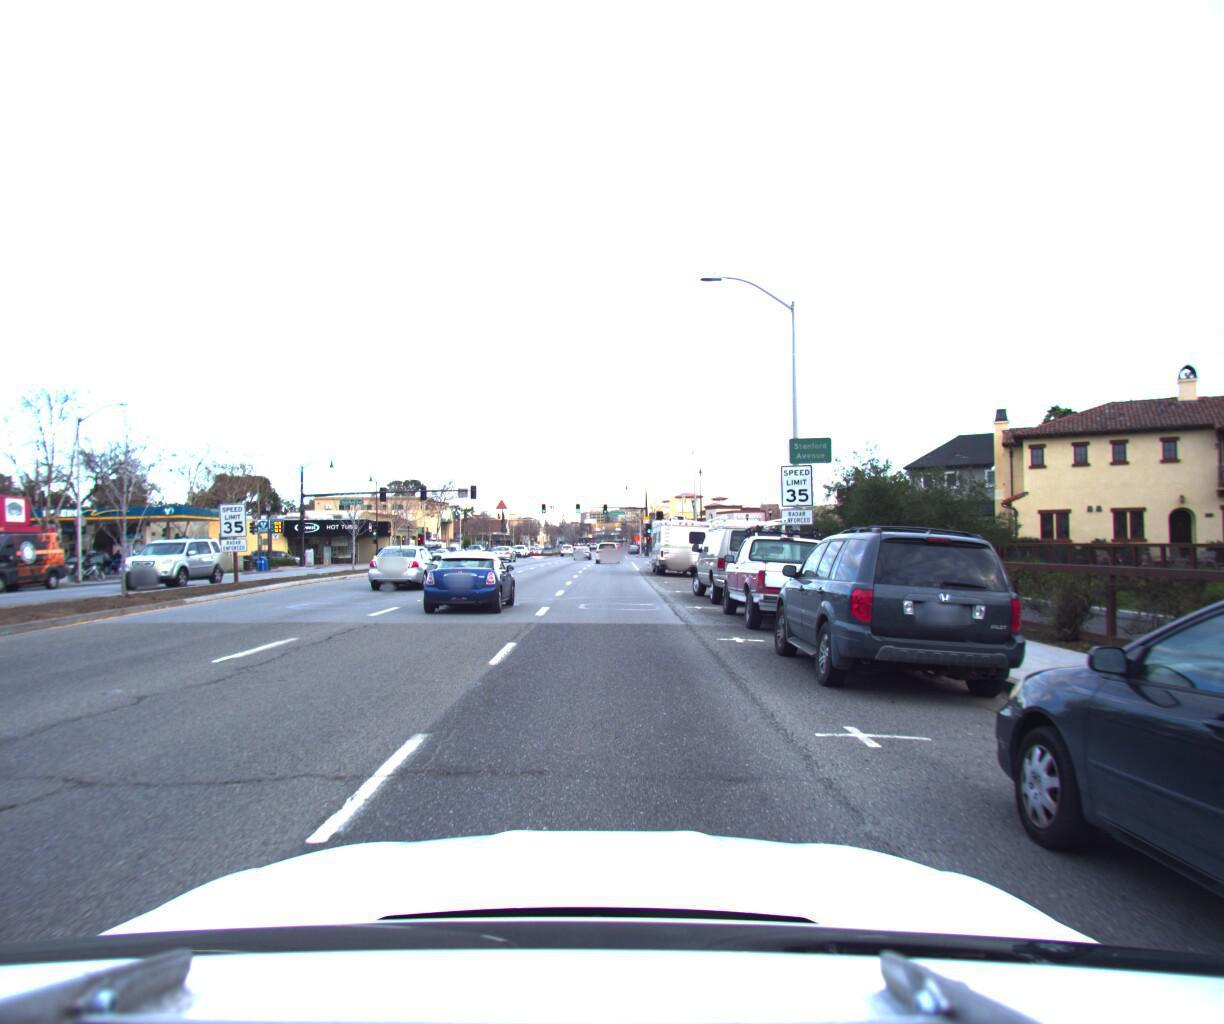bicycle: (71, 551, 110, 574)
car: (945, 550, 1224, 1024), (758, 508, 1044, 708), (718, 513, 874, 634), (420, 541, 523, 610), (114, 528, 234, 584), (365, 536, 448, 586), (593, 532, 620, 554), (489, 535, 518, 555), (571, 539, 593, 556)
truck: (689, 504, 799, 603), (0, 522, 76, 588), (646, 503, 713, 571)
